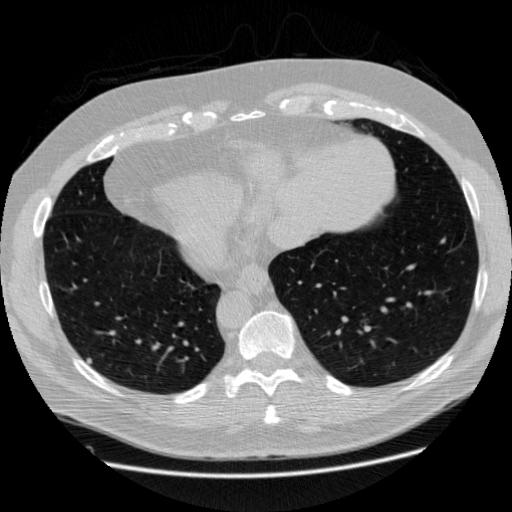nodule: (86, 355, 98, 367)
